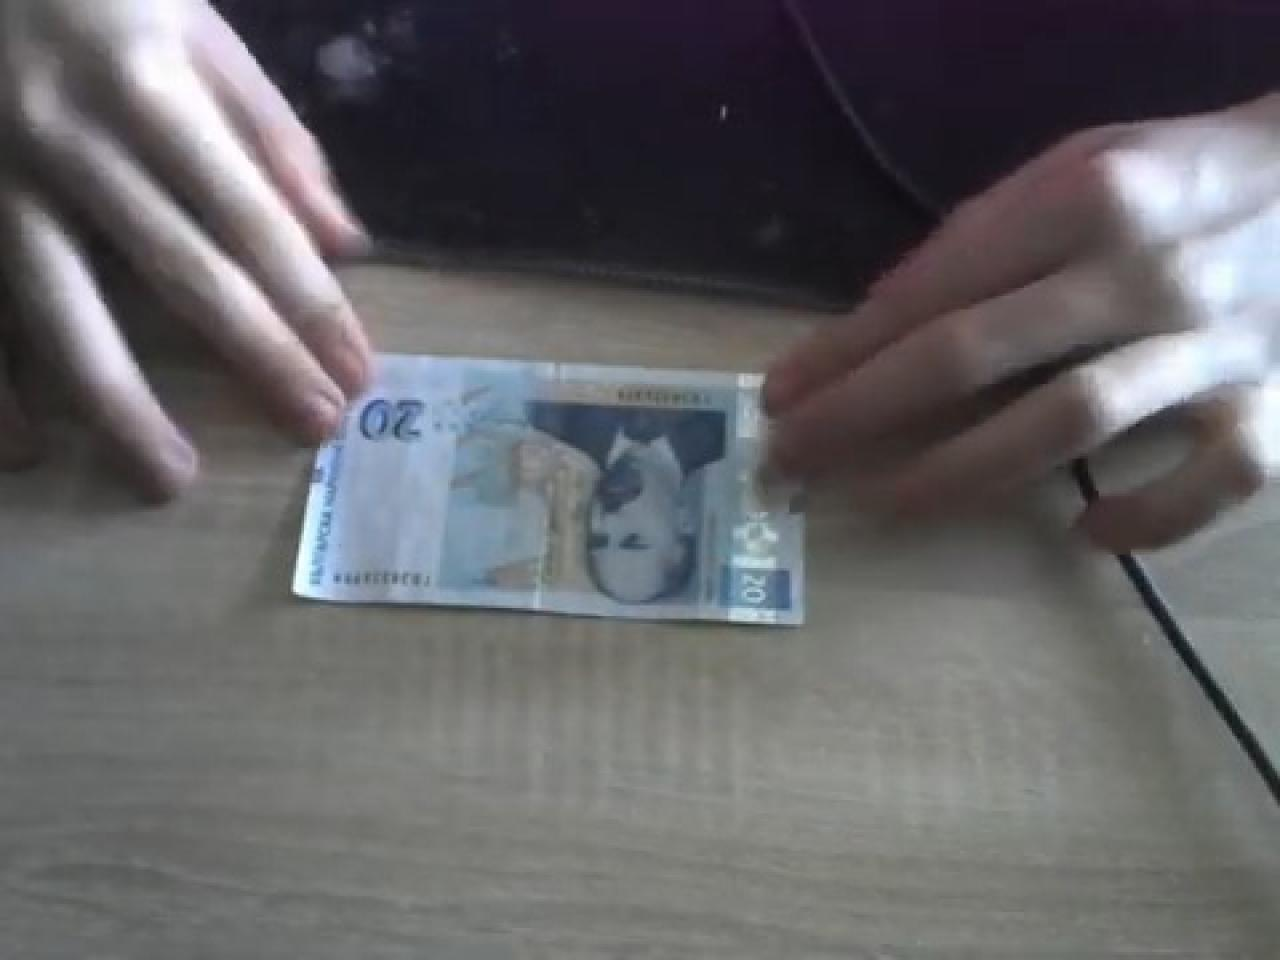20leva: (288, 350, 808, 629)
